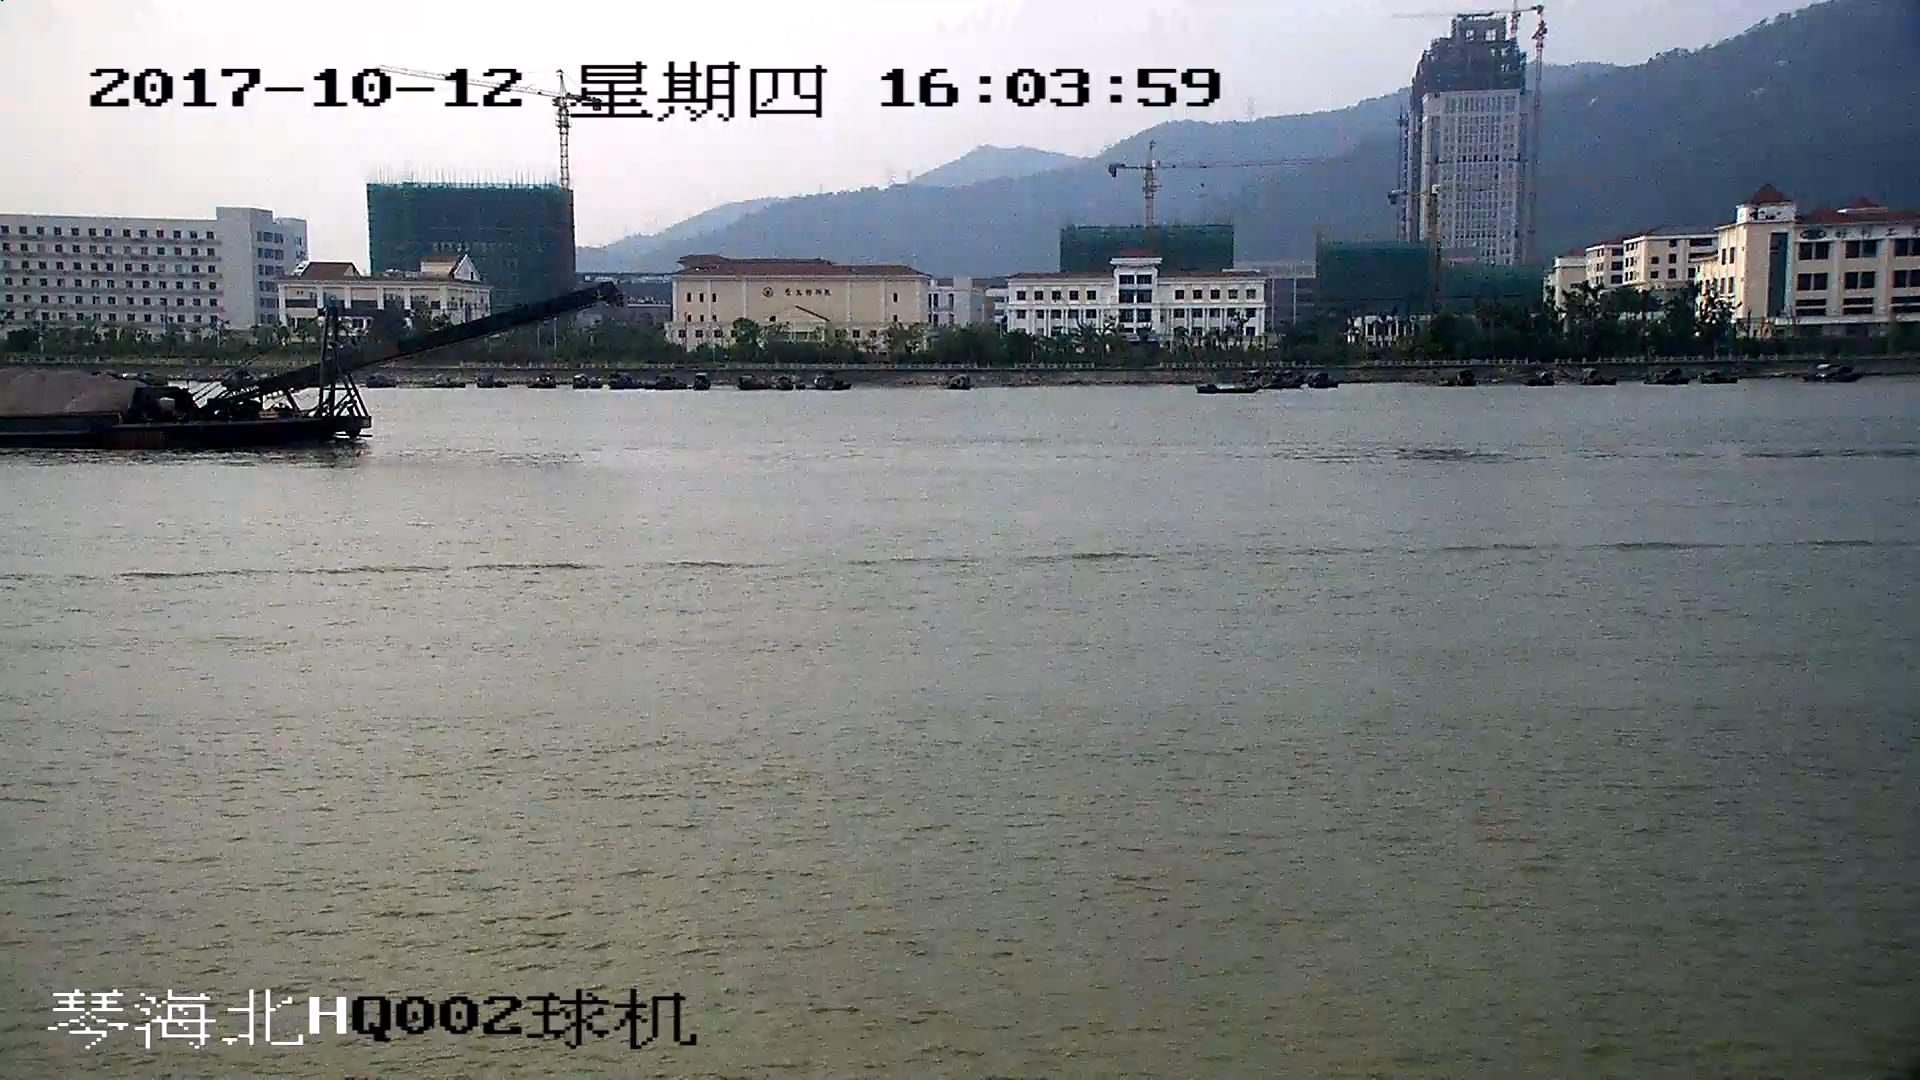ore carrier: (1, 281, 610, 449)
